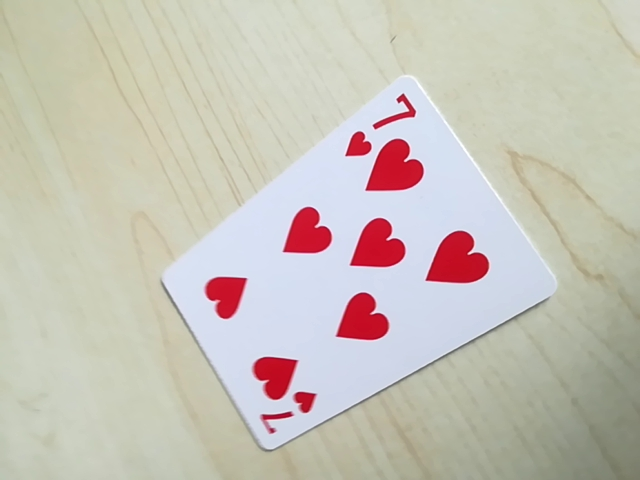hx 7: (348, 89, 422, 148), (253, 393, 321, 439)
